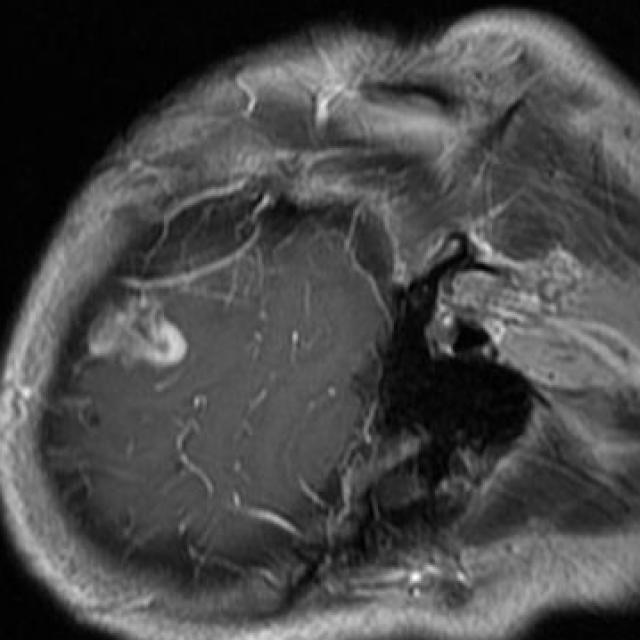glioma: (89, 299, 189, 369)
